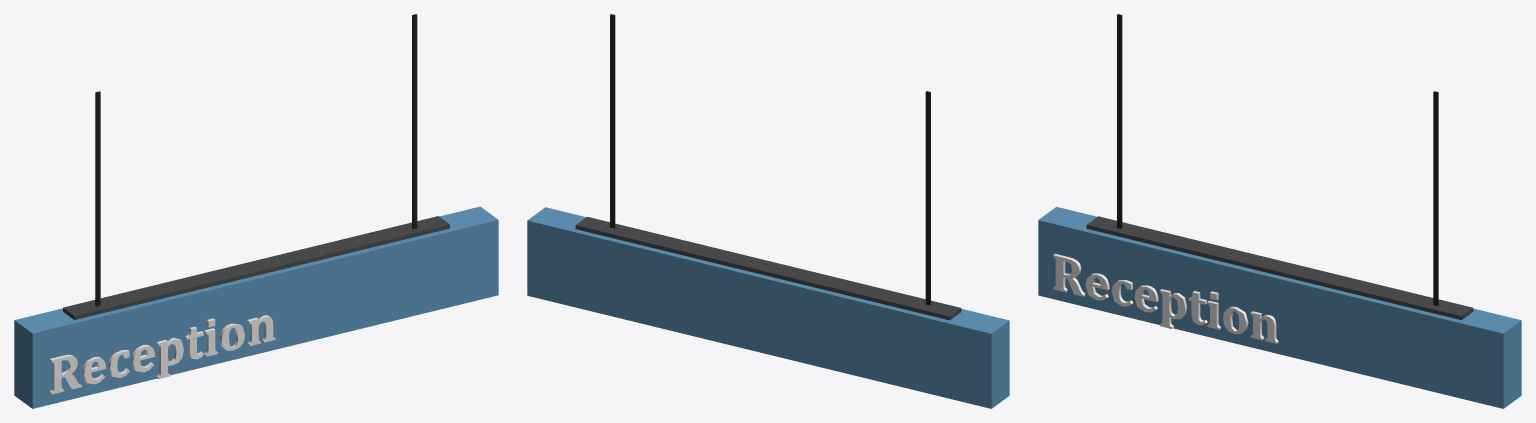
File: SM_sign_receiption.fbx
3 views of the same model, side by side, from view 1: azimuth 30°, elevation 25°; view 2: azimuth 150°, elevation 25°; view 3: azimuth 330°, elevation 25° (orthographic).
Parts seen in each view (by area): view 1: Text001; view 2: Text001; view 3: Text001.
Part boxes in pixels (bbox=[...]): Text001: bbox=[14, 14, 498, 408]; Text001: bbox=[527, 14, 1009, 408]; Text001: bbox=[1038, 14, 1521, 408].
Size of the model in its own units: 185 by 111 by 13.97.
